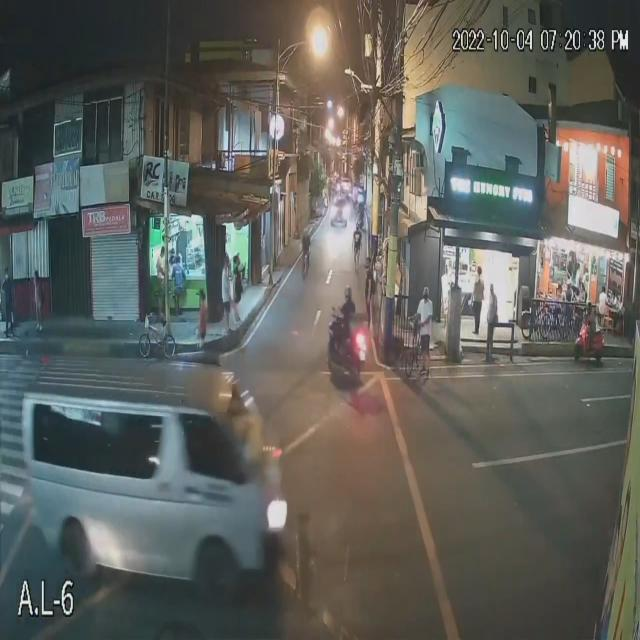Half-Faced: (342, 282, 352, 306)
